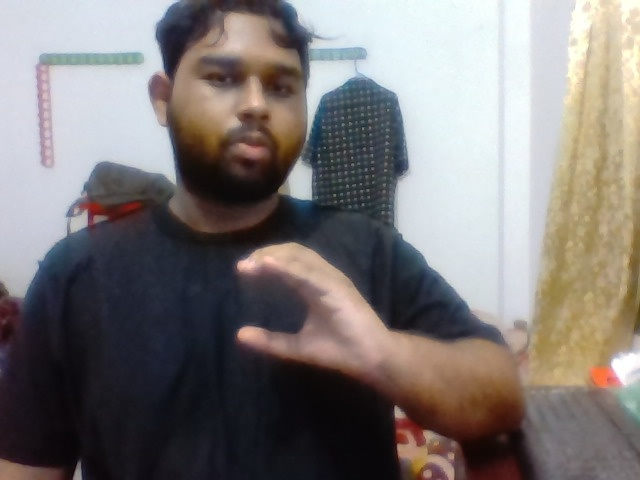C: (217, 237, 386, 401)
